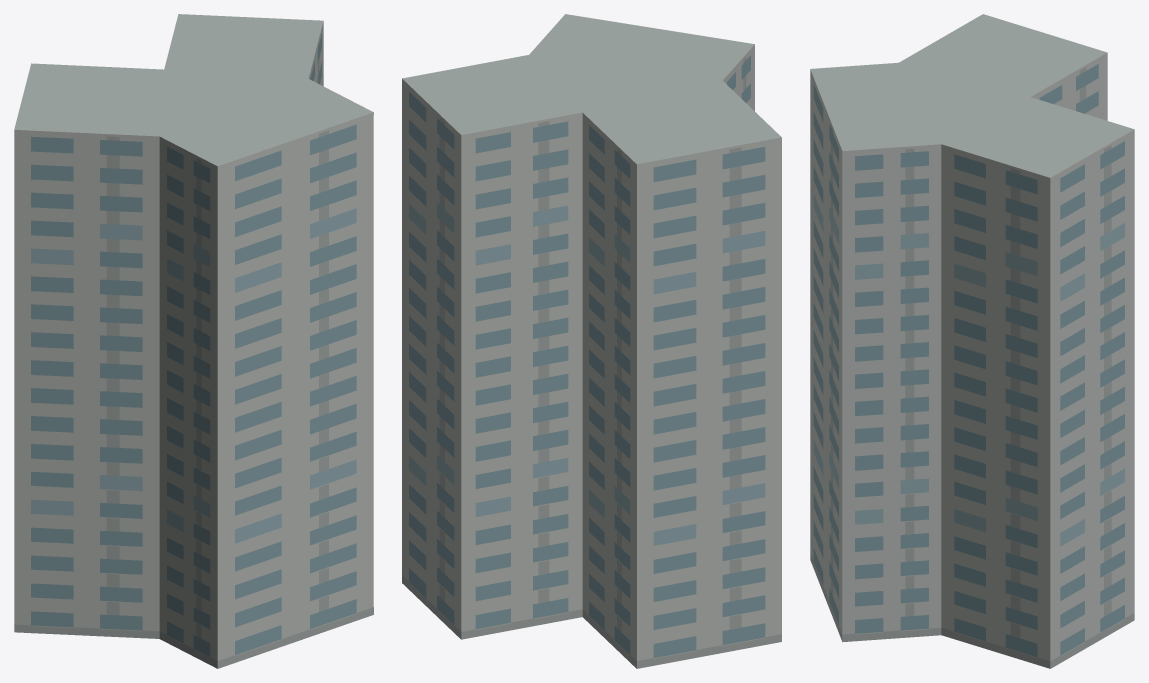
The model's file is residential-17401eb1-d957-4fb3-8e35-2fb07f57d478.glb.
The picture shows the model from 3 angles, left to right: view 1: azimuth 30°, elevation 25°; view 2: azimuth 150°, elevation 25°; view 3: azimuth 270°, elevation 25°; orthographic projection. The views are drawn at different scales.
Parts seen in each view (by area): view 1: residential-17401eb1-d957-4fb3-8e35-2fb07f57d478.tmp; view 2: residential-17401eb1-d957-4fb3-8e35-2fb07f57d478.tmp; view 3: residential-17401eb1-d957-4fb3-8e35-2fb07f57d478.tmp.
Part boxes in pixels (box(x1,y1,x2,y2)): residential-17401eb1-d957-4fb3-8e35-2fb07f57d478.tmp: box(14, 14, 373, 668); residential-17401eb1-d957-4fb3-8e35-2fb07f57d478.tmp: box(402, 14, 781, 668); residential-17401eb1-d957-4fb3-8e35-2fb07f57d478.tmp: box(810, 14, 1134, 668).
Bounding box in the file's own units: 36.53 × 51 × 30.55.
